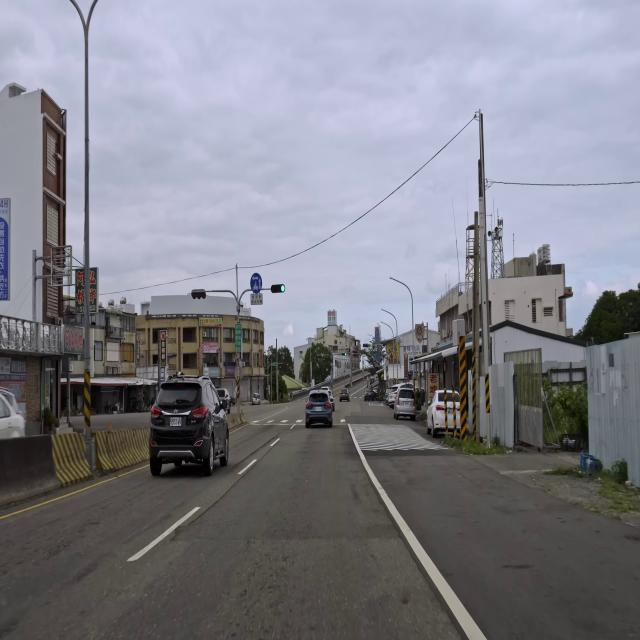green light: (270, 284, 286, 294)
